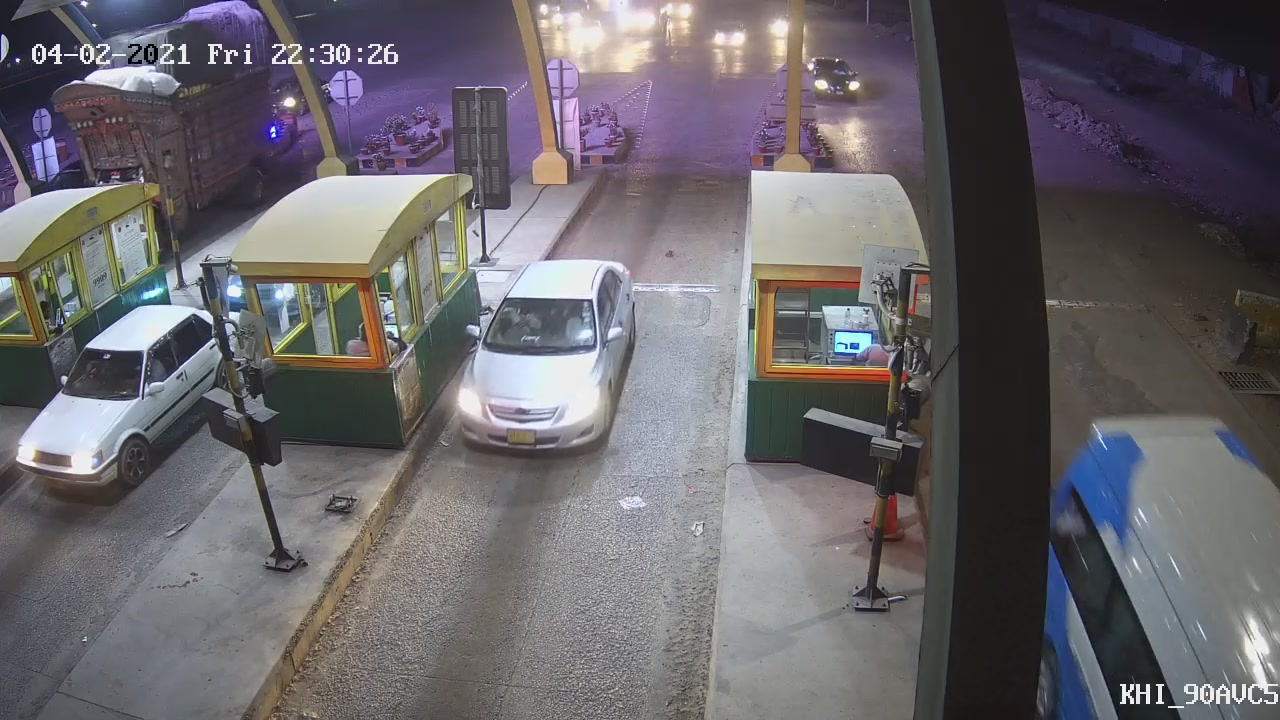F1: (450, 251, 644, 464)
